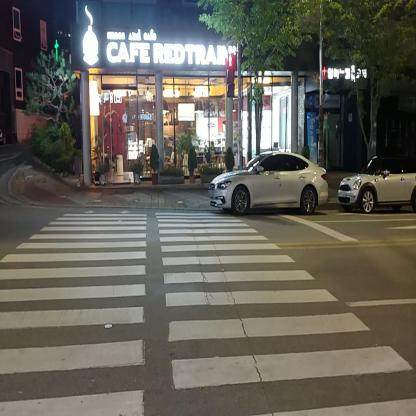Red: (226, 54, 235, 98)
